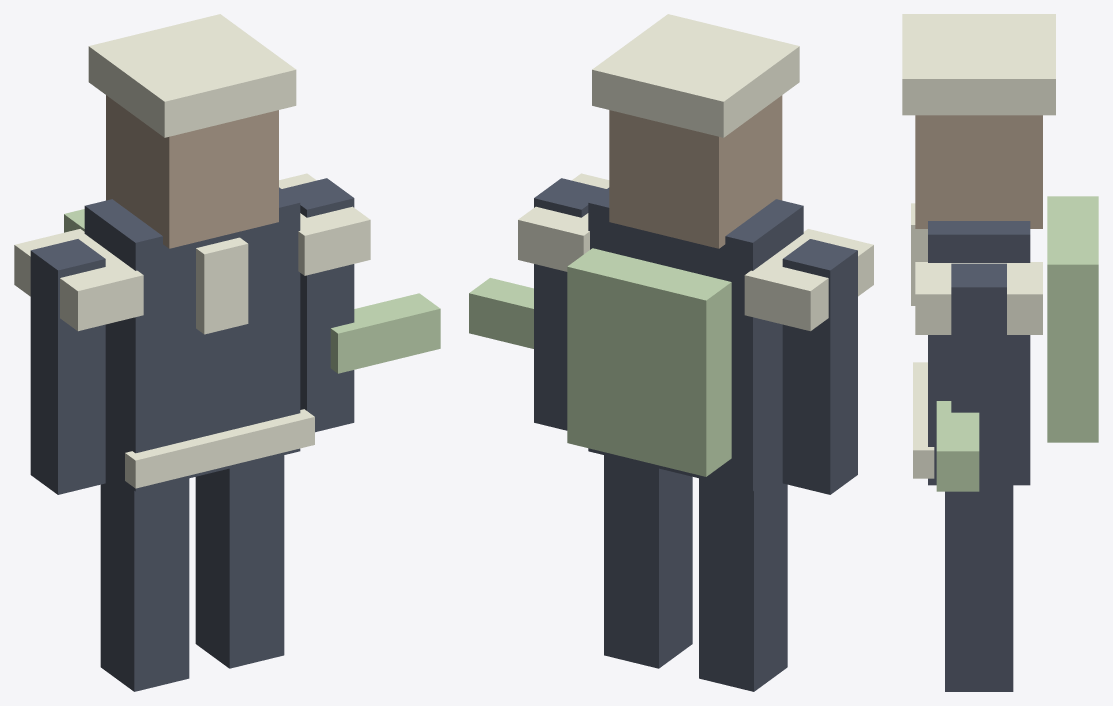
Rendered from 17_draven_wayfare_navigator_at_quantum.glb.
3 renders of one model, left to right at view 1: azimuth 30°, elevation 25°; view 2: azimuth 150°, elevation 25°; view 3: azimuth 270°, elevation 25°, orthographic.
Parts seen in each view (by area): view 1: Draven Wayfare, Navigator at Quantum; view 2: Draven Wayfare, Navigator at Quantum; view 3: Draven Wayfare, Navigator at Quantum.
Boxes of the visible parts, x1,y1,x2,y2 form: Draven Wayfare, Navigator at Quantum: [14, 14, 440, 691]; Draven Wayfare, Navigator at Quantum: [469, 14, 873, 691]; Draven Wayfare, Navigator at Quantum: [902, 14, 1098, 691].
Bounding box in the file's own units: 1.02 × 1.56 × 0.4569.
